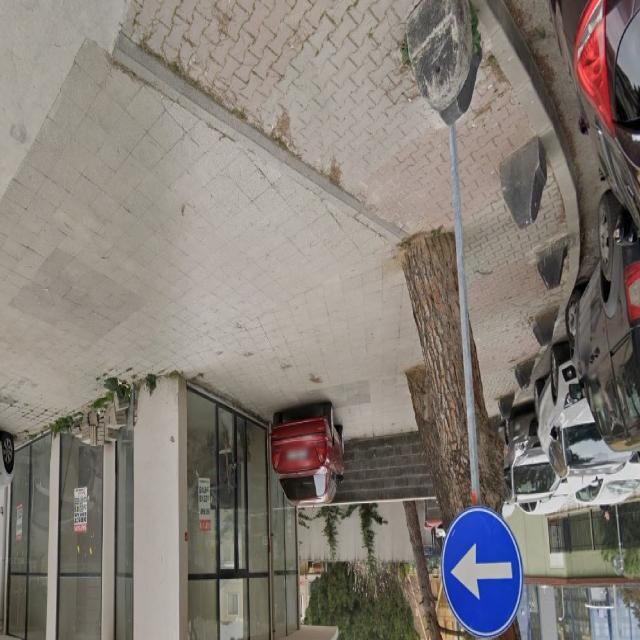Turn Left: (443, 504, 527, 634)
